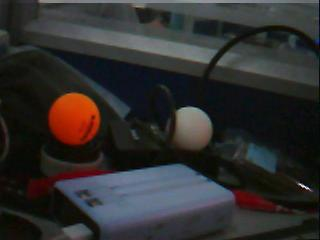oball: (48, 93, 100, 144)
